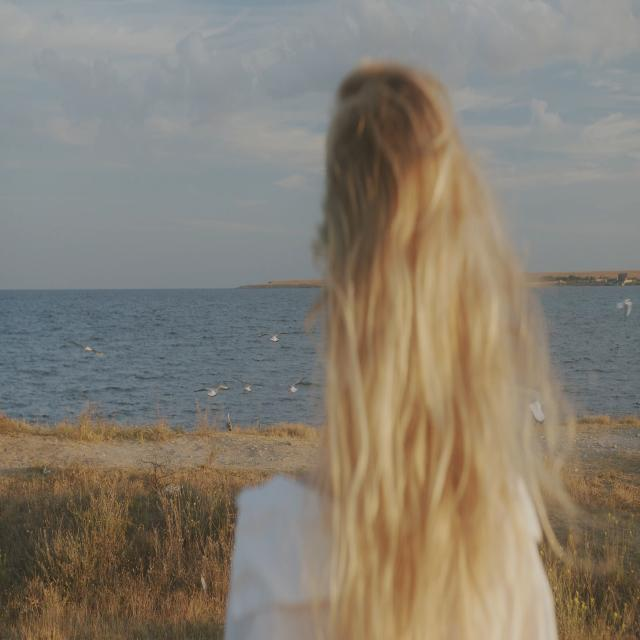bird: (69, 328, 101, 364), (232, 371, 266, 396), (191, 383, 231, 403), (255, 329, 288, 347), (277, 375, 307, 392), (225, 412, 235, 430)
